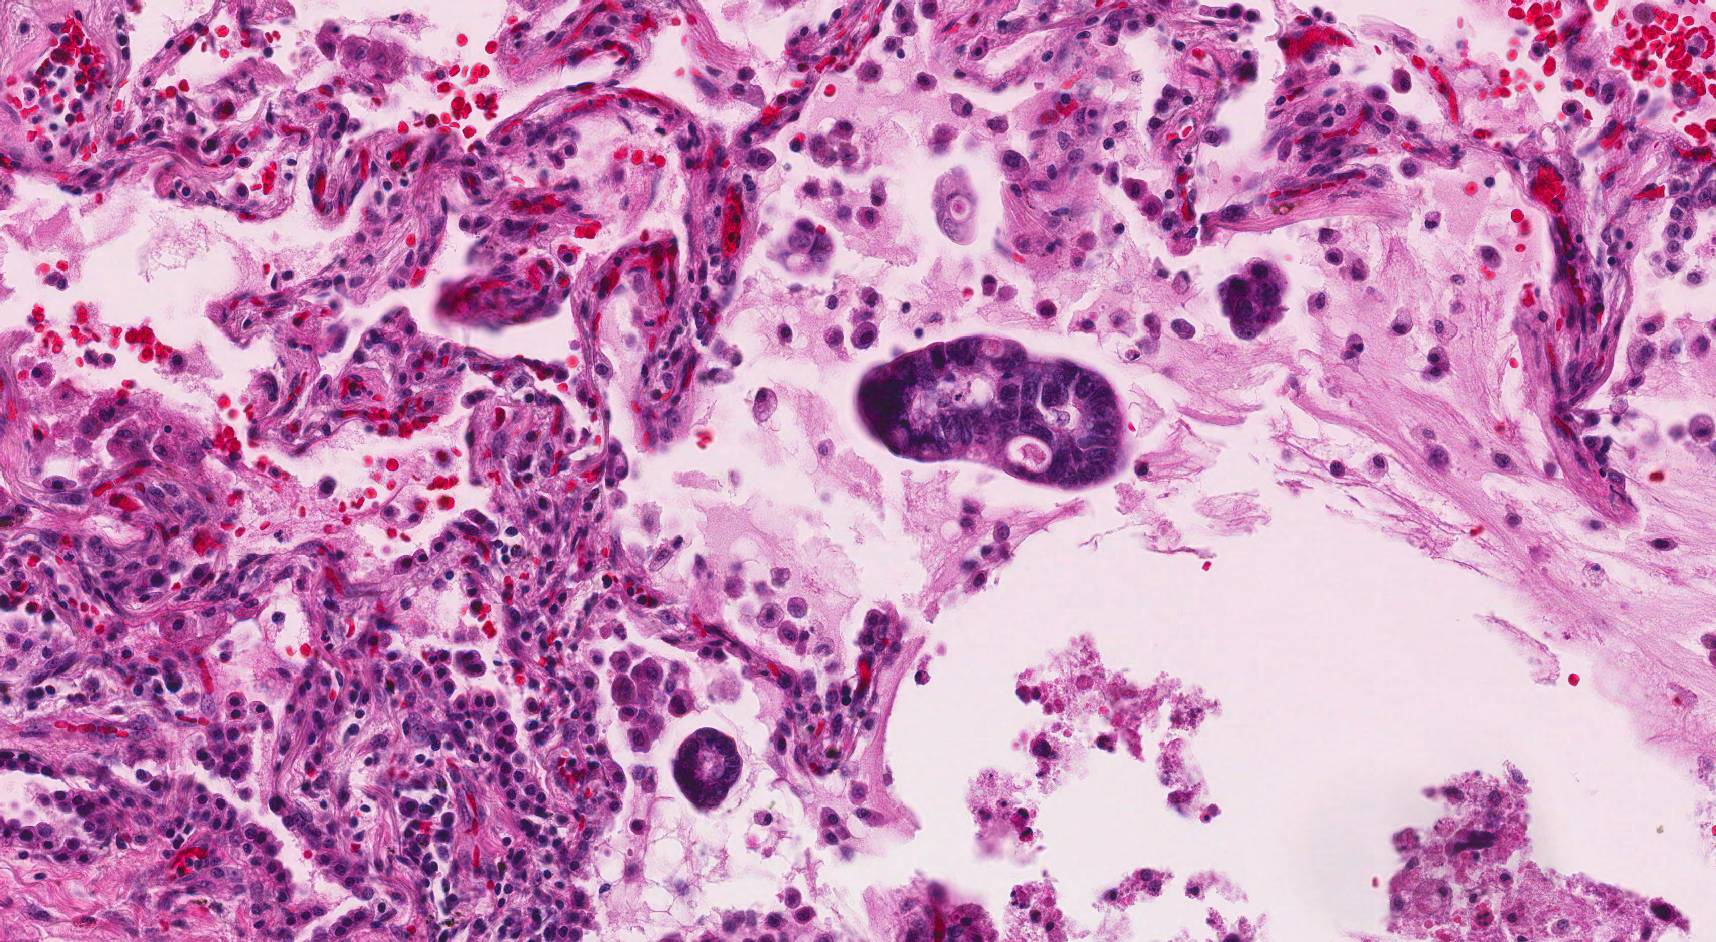stas: (857, 335, 1125, 491), (669, 727, 745, 811), (1218, 255, 1290, 341)
